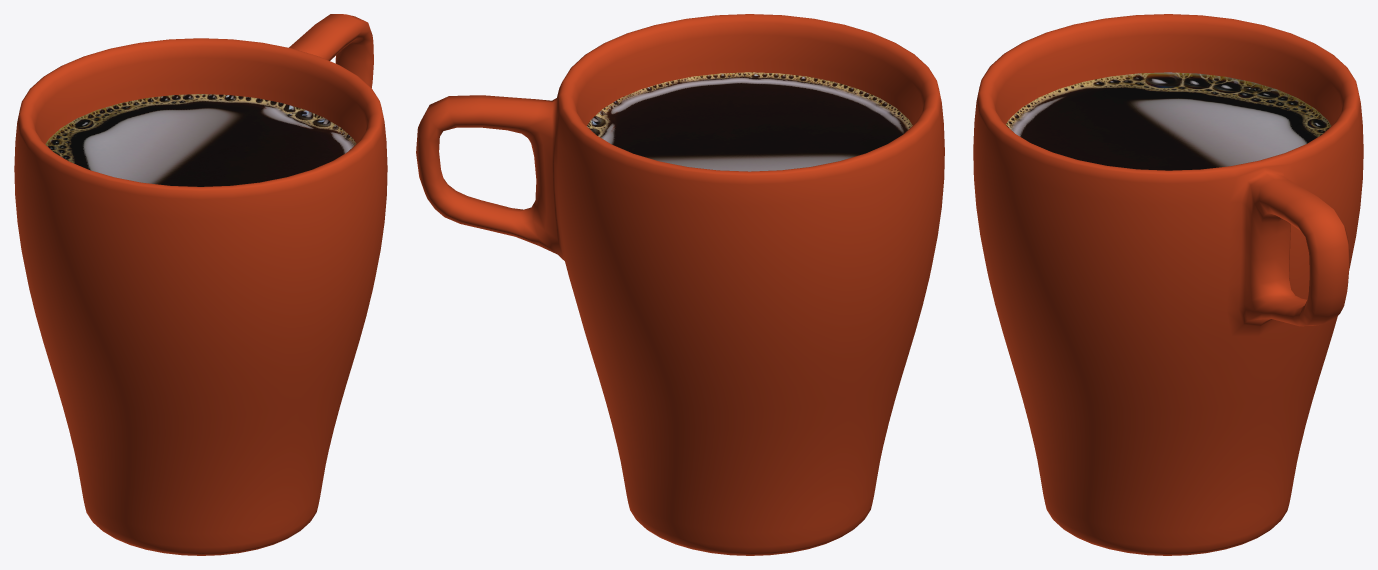
Rendered from RedCoffeeCup.glb.
3 renders of one model, left to right at view 1: azimuth 30°, elevation 25°; view 2: azimuth 150°, elevation 25°; view 3: azimuth 270°, elevation 25°, orthographic. The views are drawn at different scales.
Parts seen in each view (by area): view 1: Mug L1.3; view 2: Mug L1.3; view 3: Mug L1.3.
Boxes of the visible parts, bbox=[...] form: Mug L1.3: bbox=[14, 14, 387, 555]; Mug L1.3: bbox=[416, 14, 944, 555]; Mug L1.3: bbox=[973, 14, 1363, 555].
Bounding box in the file's own units: 505 × 473 × 402.
Materials: 2 (1 with a texture image).
